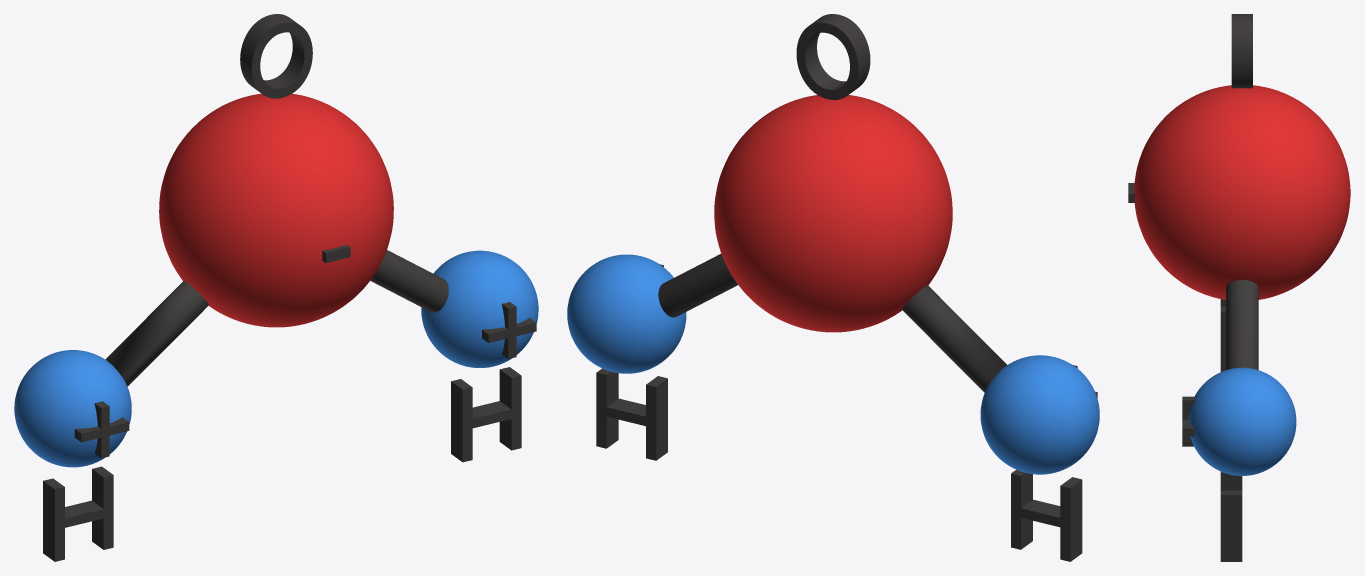
The model's file is watermolecule.glb.
The picture shows the model from 3 angles, left to right: view 1: azimuth 30°, elevation 25°; view 2: azimuth 150°, elevation 25°; view 3: azimuth 270°, elevation 25°; orthographic projection. The views are drawn at different scales.
Parts seen in each view (by area): view 1: Sphere_2, Sphere.002_4, Text.002_5, Cylinder_3, Text.003_8, Text.001_7; view 2: Sphere_2, Sphere.002_4, Text.002_5, Cylinder_3; view 3: Sphere_2, Sphere.002_4, Text.002_5, Cylinder_3, Text.001_7.
Boxes of the visible parts, box(x1,y1,x2,y2) form: Sphere_2: box(159, 93, 393, 327); Sphere.002_4: box(14, 250, 538, 467); Text.002_5: box(43, 14, 521, 561); Cylinder_3: box(105, 250, 448, 386); Text.003_8: box(74, 401, 129, 458); Text.001_7: box(482, 302, 536, 358); Sphere_2: box(714, 95, 952, 332); Sphere.002_4: box(567, 254, 1099, 474); Text.002_5: box(596, 14, 1082, 561); Cylinder_3: box(658, 254, 1006, 392); Sphere_2: box(1134, 85, 1350, 299); Sphere.002_4: box(1188, 367, 1296, 475); Text.002_5: box(1220, 14, 1252, 561); Cylinder_3: box(1226, 280, 1258, 369); Text.001_7: box(1182, 396, 1194, 446).
Bounding box in the file's own units: 5 × 4.49 × 2.05.
